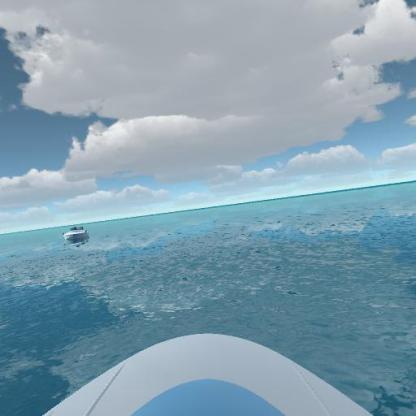usv1: (58, 220, 92, 245)
